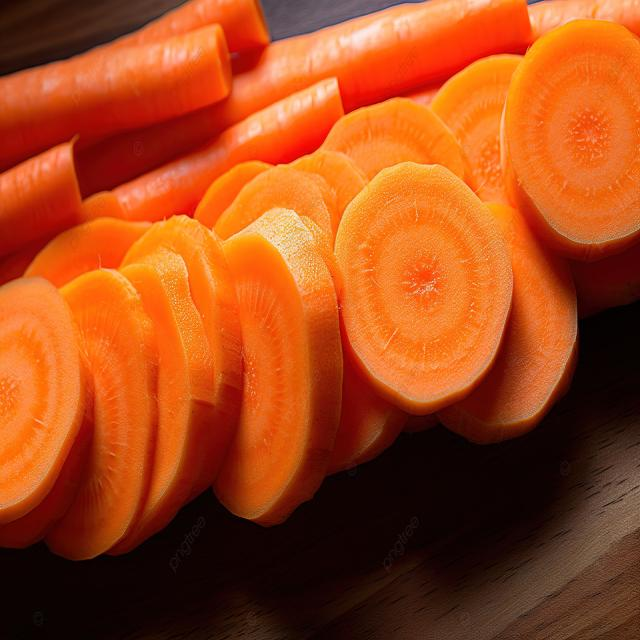ca rot: (0, 19, 639, 559)
